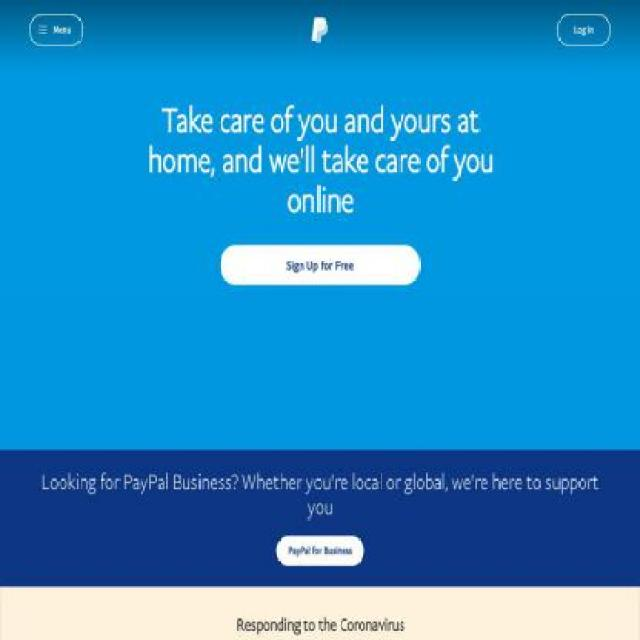button: (220, 244, 420, 284), (276, 536, 364, 566), (30, 14, 82, 46), (558, 14, 610, 46), (312, 18, 328, 42)
